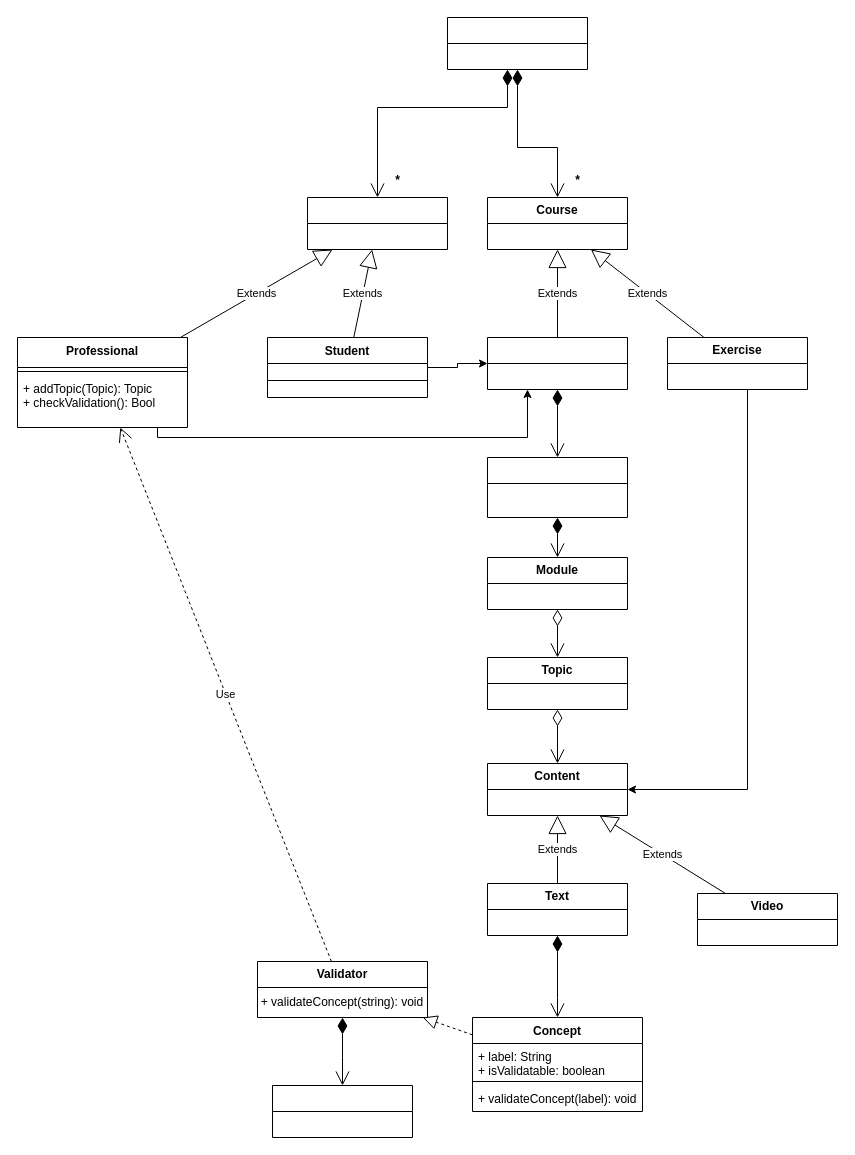
Some shapes in this 855 by 1155 pixel diagram are drawn without their labels. Each missing label, with the centre of its shape:
EducacionEntity: point (517, 43)
Filter: point (342, 1111)
Itinerary: point (557, 487)
Subject: point (557, 363)
User: point (377, 223)
